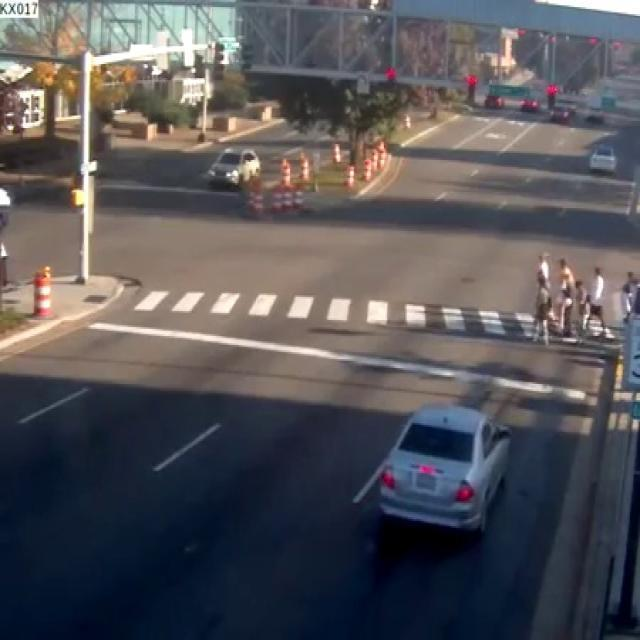car: (378, 404, 508, 528), (203, 146, 258, 185), (589, 142, 616, 171)
red_light: (464, 71, 476, 102), (544, 81, 557, 107), (383, 64, 394, 80)
stop_line: (88, 320, 588, 400)
